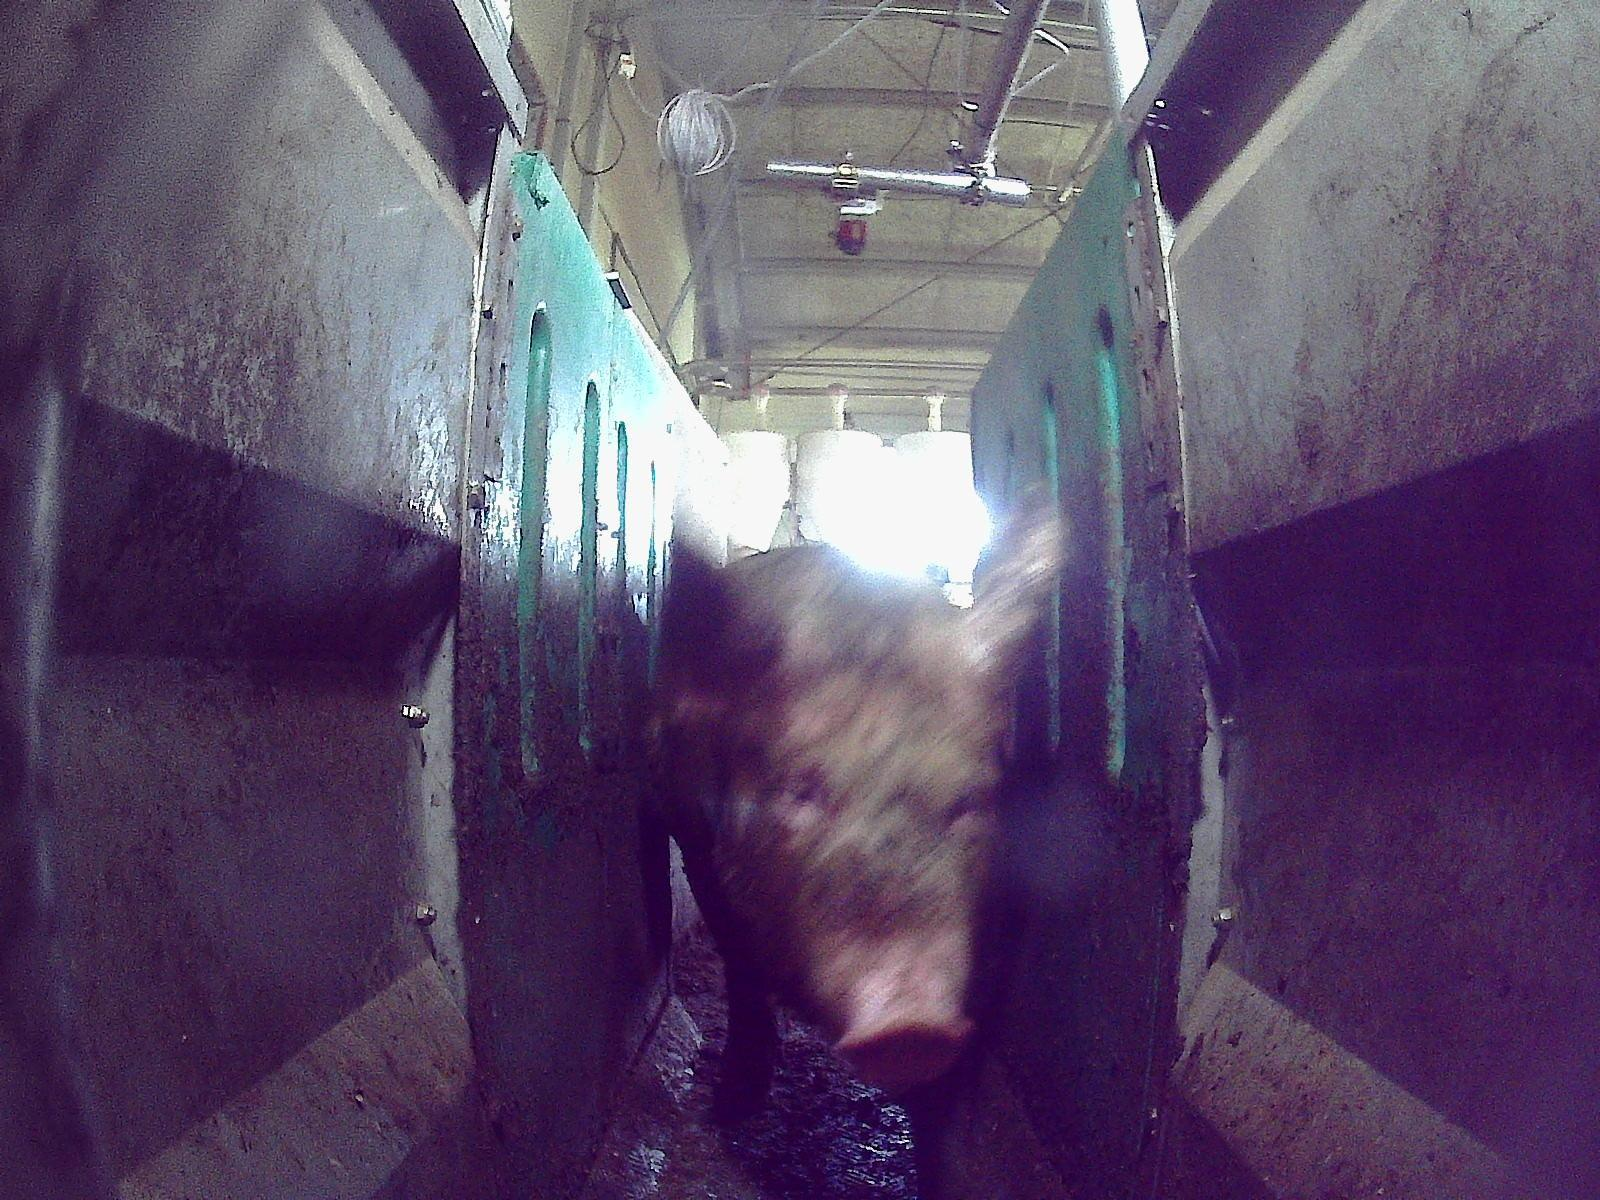Face: (711, 628, 994, 1078)
